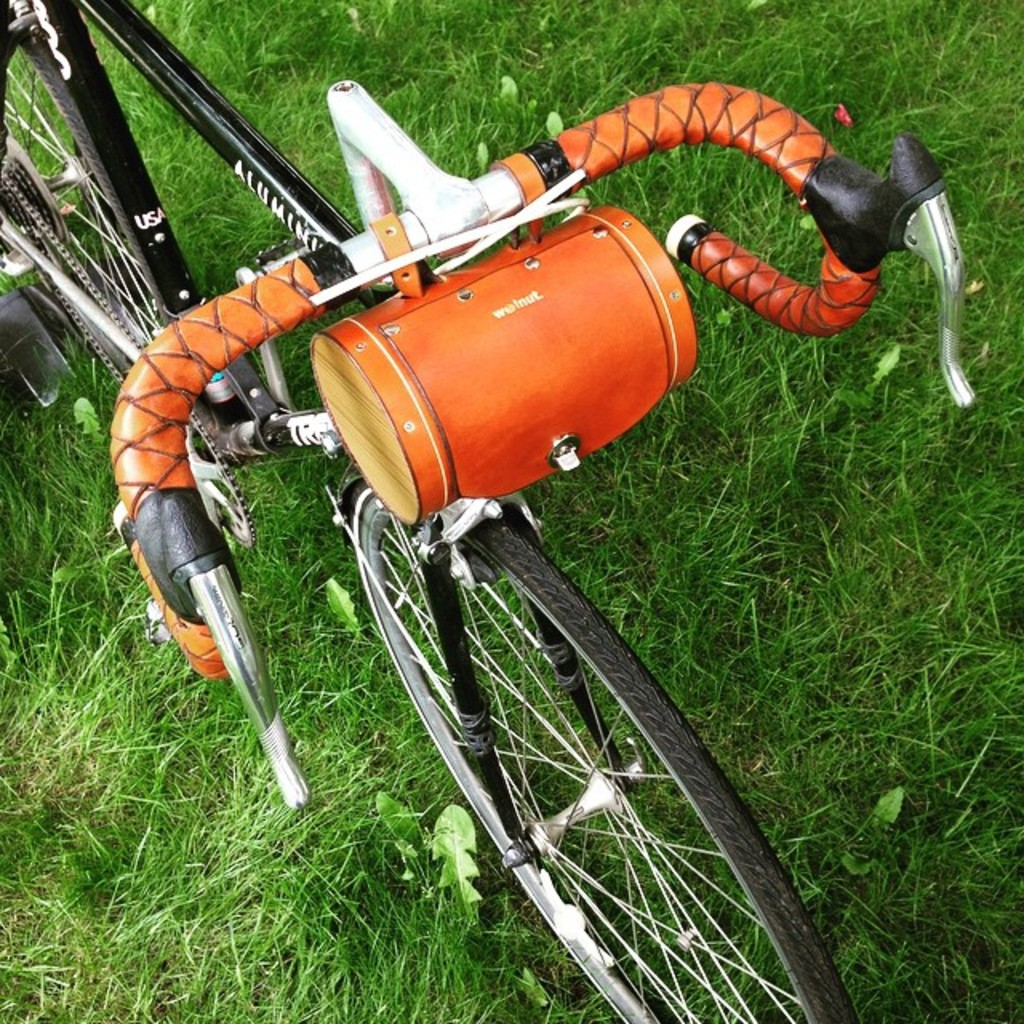bicycle: (0, 0, 977, 1022)
